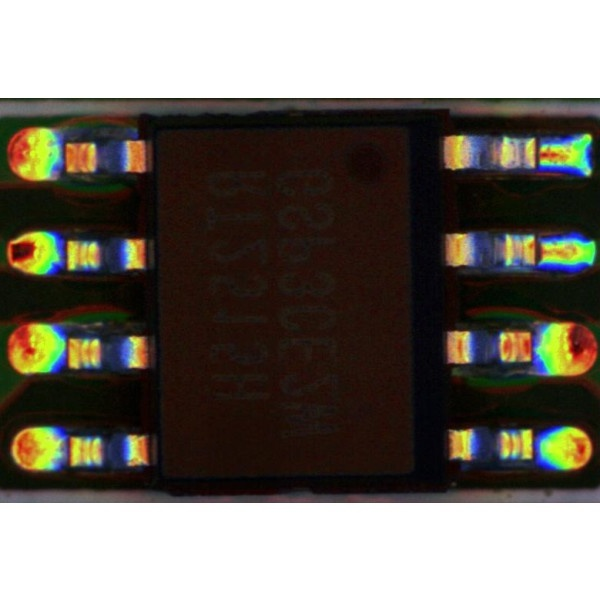Bad_podu: (524, 144, 565, 168), (521, 242, 565, 258)
